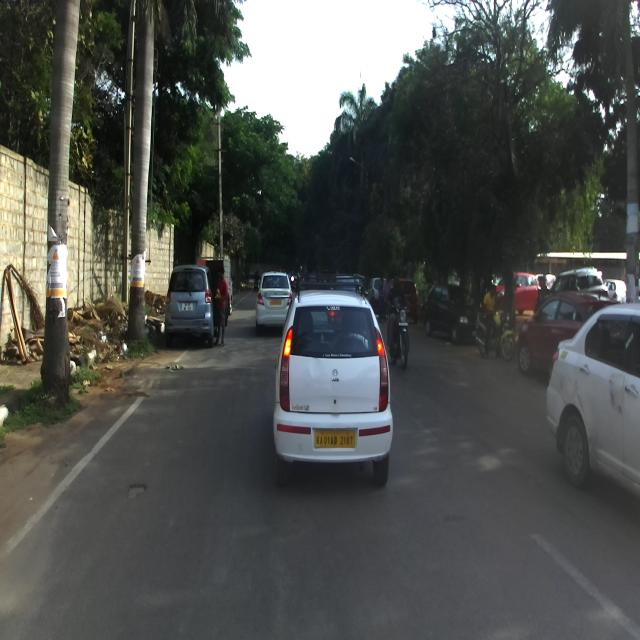car ahead at: (280, 283, 398, 477), (547, 312, 640, 482), (168, 261, 214, 347), (256, 269, 296, 318)
person ahead at: (217, 265, 232, 343)
tree ahead at: (39, 0, 81, 398), (124, 4, 155, 350)
